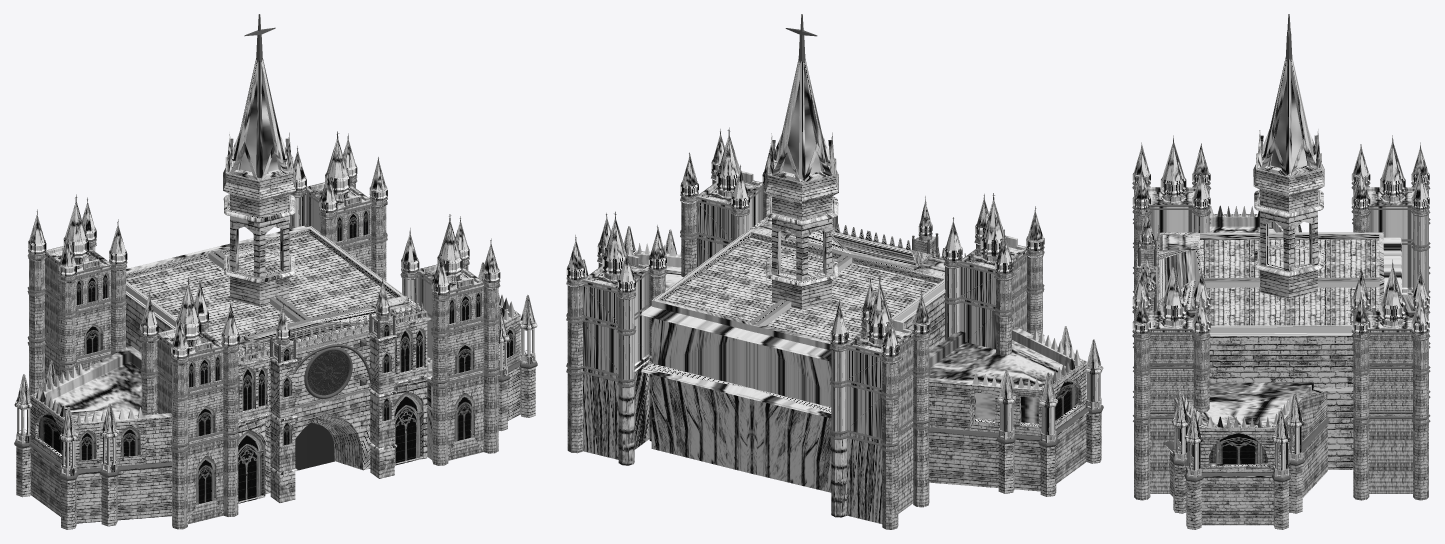
Rendered from castle-building.glb.
3 renders of one model, left to right at view 1: azimuth 30°, elevation 25°; view 2: azimuth 150°, elevation 25°; view 3: azimuth 270°, elevation 25°, orthographic. The views are drawn at different scales.
Visible parts, largest first — view 1: Castle, Curve.001, BézierCircle; view 2: Castle; view 3: Castle.
Part boxes in pixels (box(x1,y1,x2,y2)): Castle: box(14, 14, 537, 529); Curve.001: box(307, 351, 348, 395); BézierCircle: box(304, 347, 352, 398); Castle: box(566, 14, 1103, 529); Castle: box(1132, 14, 1430, 529).
Size of the model in its own units: 3.73 by 3.14 by 2.07.
Materials: 4 (2 with a texture image).
